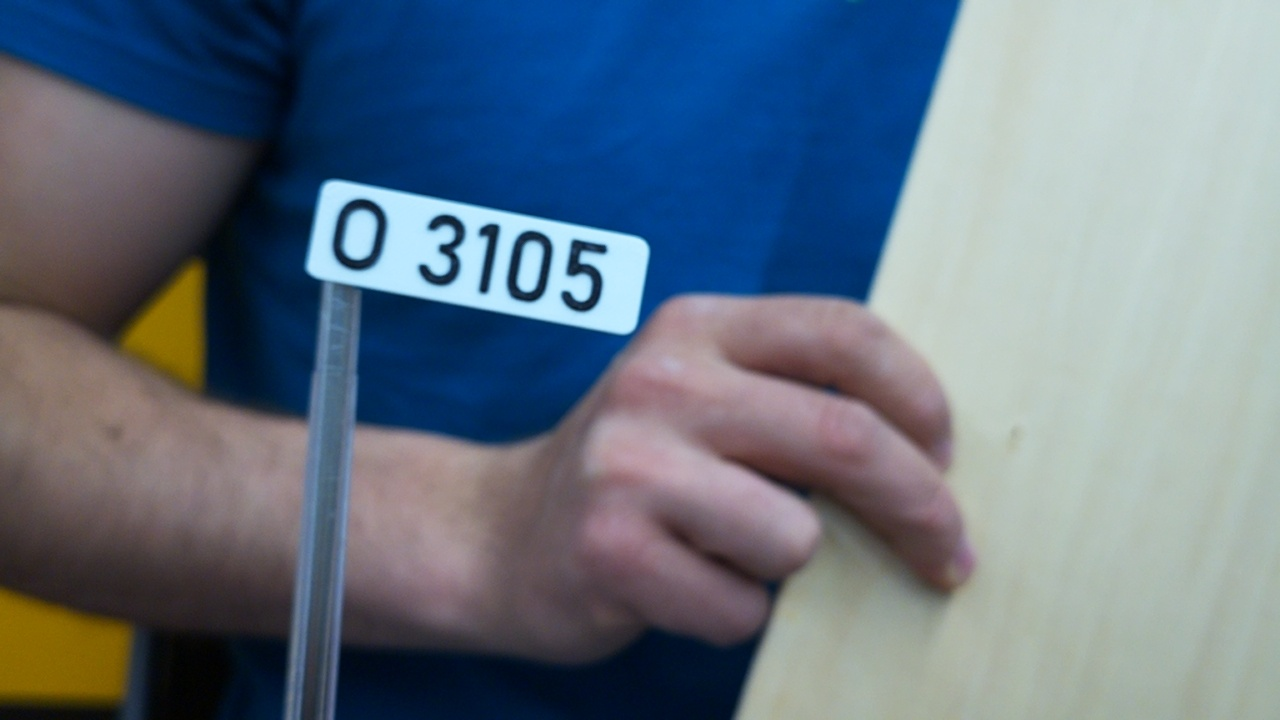license_plate: (302, 175, 651, 336)
